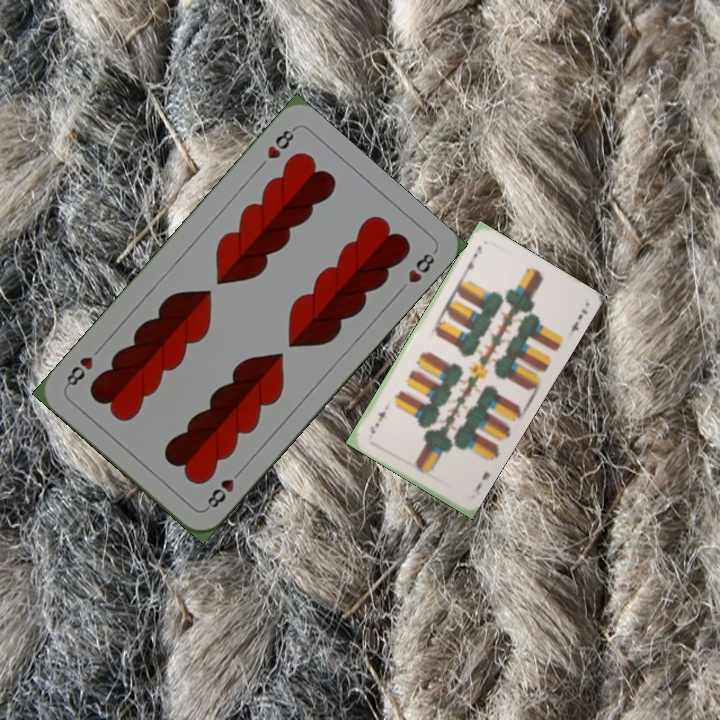E7: (459, 242, 485, 276), (471, 468, 493, 497)
H8: (201, 464, 245, 513), (262, 124, 298, 162)
